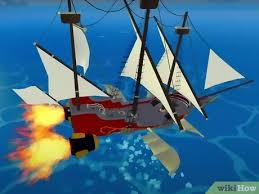boat: (15, 4, 248, 140)
